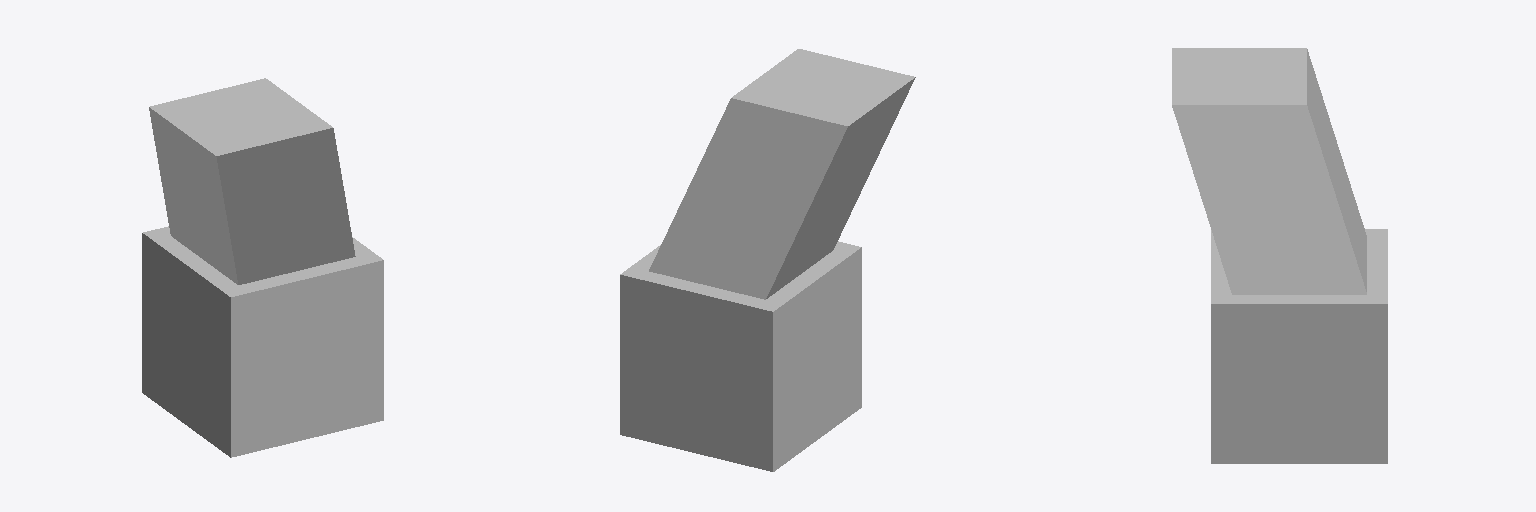
Rendered from first_model_ca.obj.
3 views of the same model, side by side, from view 1: azimuth 30°, elevation 25°; view 2: azimuth 150°, elevation 25°; view 3: azimuth 270°, elevation 25° (orthographic).
Parts seen in each view (by area): view 1: Cube; view 2: Cube; view 3: Cube.
Boxes of the visible parts, x1=… form: Cube: x1=142, y1=78, x2=383, y2=457; Cube: x1=620, y1=49, x2=915, y2=471; Cube: x1=1172, y1=48, x2=1387, y2=463.
Bounding box in the file's own units: 3.59 × 5.93 × 3.59.